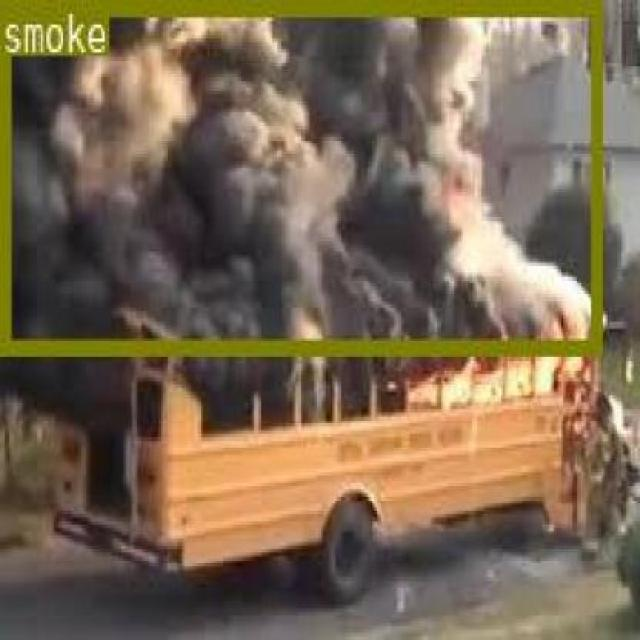Smoke: (0, 0, 600, 349)
